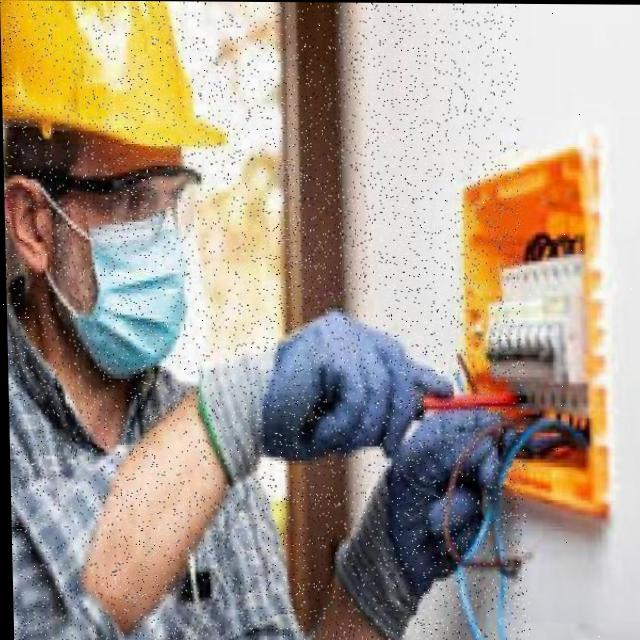Gloves: (246, 322, 432, 458)
Safety-Vest: (5, 276, 308, 640)
